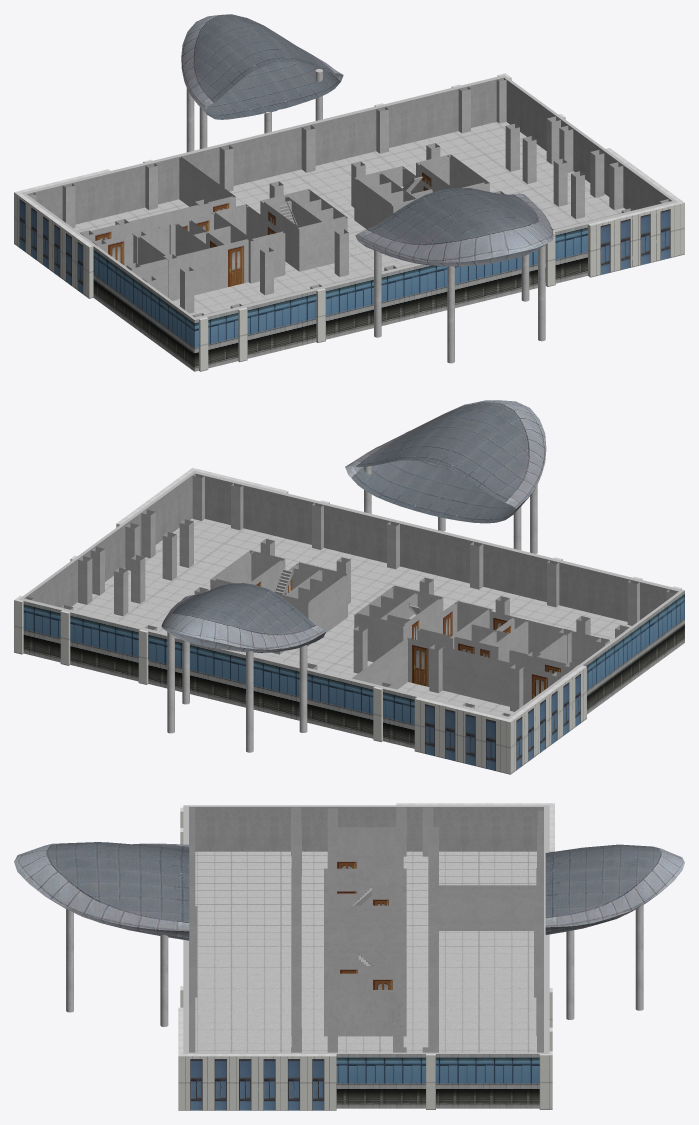
3 renders of one model, top to bottom at view 1: azimuth 30°, elevation 25°; view 2: azimuth 150°, elevation 25°; view 3: azimuth 270°, elevation 25°, orthographic. The views are drawn at different scales.
Visible parts, largest first — view 1: 1c.002; view 2: 1c.002; view 3: 1c.002.
Boxes of the visible parts, left/top/right/bottom form: 1c.002: left=14, top=14, right=684, bottom=371; 1c.002: left=14, top=400, right=684, bottom=774; 1c.002: left=14, top=803, right=684, bottom=1110.
Size of the model in its own units: 56.65 by 14.42 by 63.47.
13 materials, 12 textured.
